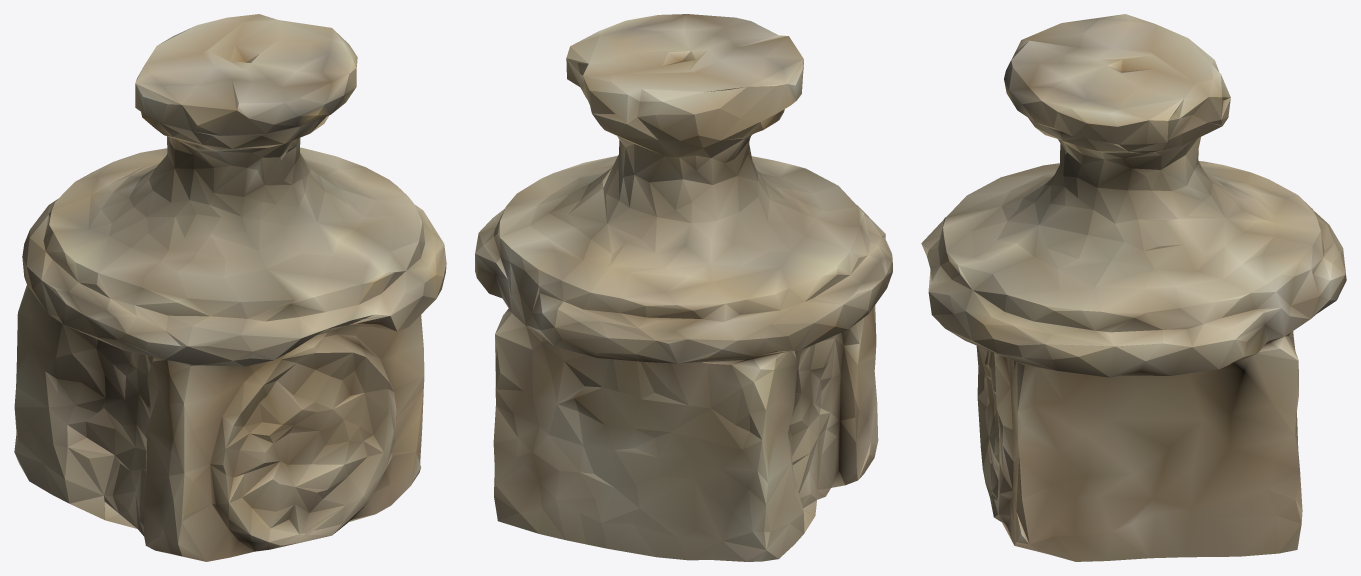
Rendered from stone-trinket.gltf.
3 renders of one model, left to right at view 1: azimuth 30°, elevation 25°; view 2: azimuth 150°, elevation 25°; view 3: azimuth 270°, elevation 25°, orthographic.
Visible parts, largest first — view 1: stone-trinket; view 2: stone-trinket; view 3: stone-trinket.
Part boxes in pixels (x1,y1,x2,y2): stone-trinket: (14, 14, 446, 561); stone-trinket: (475, 14, 892, 561); stone-trinket: (921, 14, 1346, 561).
Bounding box in the file's own units: 0.0523 × 0.06 × 0.0524.
